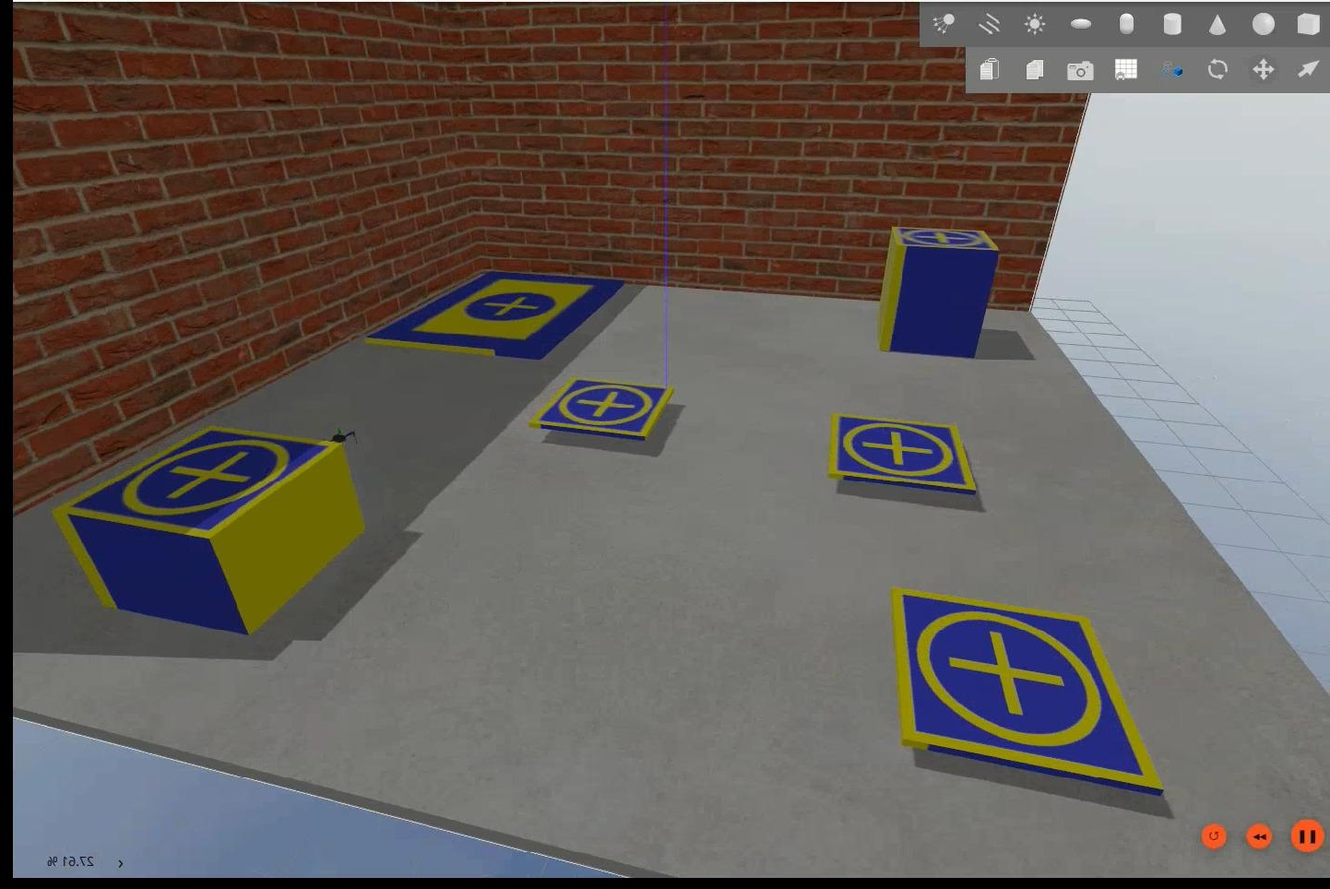large_base: (362, 269, 630, 358)
small_base: (896, 587, 1158, 794), (45, 426, 346, 539), (822, 413, 974, 493), (520, 380, 672, 445), (891, 225, 996, 256)
